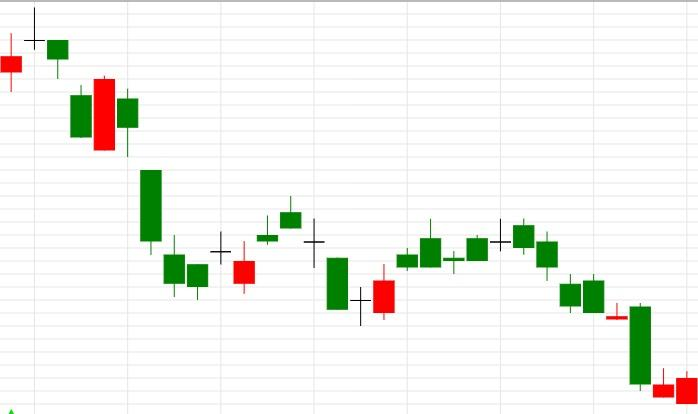bullish_engulfing_rise: (24, 7, 116, 152)
morning_star_rise: (279, 196, 396, 326)
